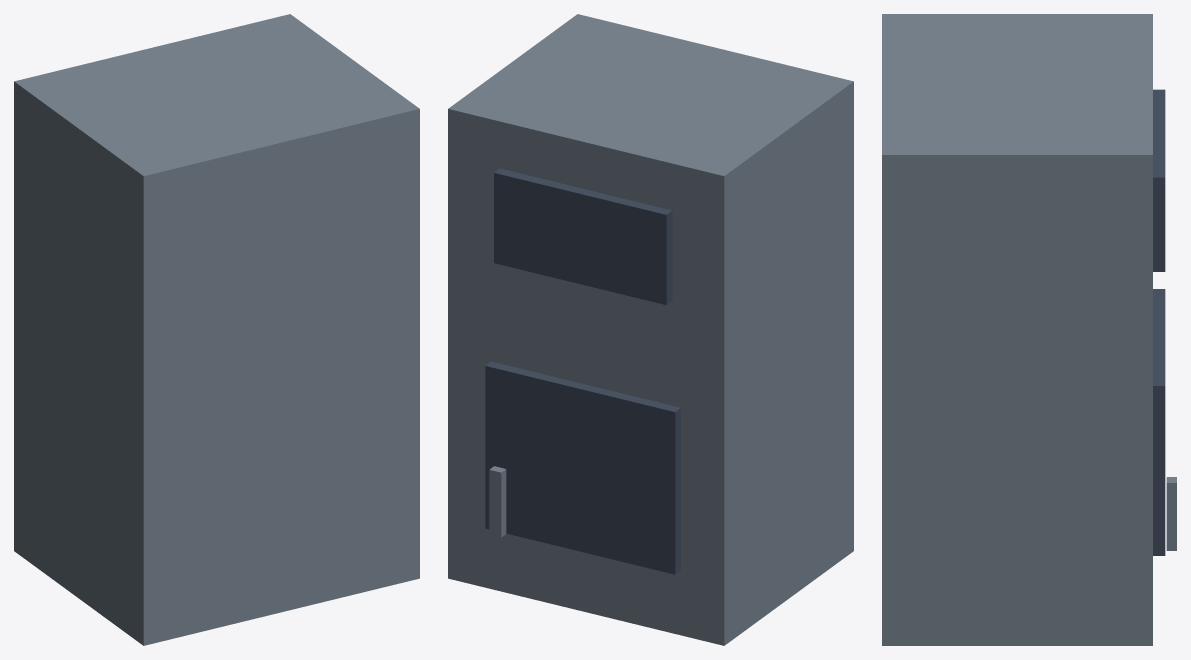
The model's file is electrical_cabinet.glb.
3 renders of one model, left to right at view 1: azimuth 30°, elevation 25°; view 2: azimuth 150°, elevation 25°; view 3: azimuth 270°, elevation 25°, orthographic. The views are drawn at different scales.
Parts seen in each view (by area): view 1: electrical_cabinet; view 2: electrical_cabinet; view 3: electrical_cabinet.
Boxes of the visible parts, <box> form: electrical_cabinet: <box>14,14,419,645</box>; electrical_cabinet: <box>448,14,853,645</box>; electrical_cabinet: <box>882,14,1176,645</box>.
Size of the model in its own units: 0.8 by 1.3 by 0.7075.
